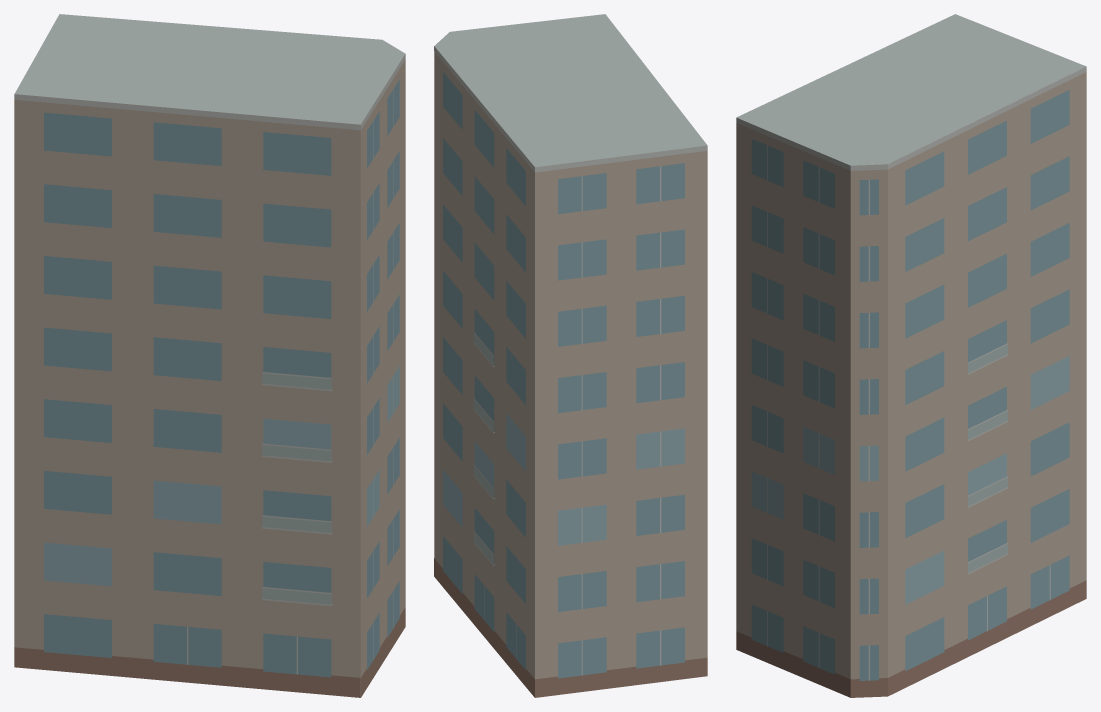
The model's file is survey-upis-32918527.glb.
3 views of the same model, side by side, from view 1: azimuth 30°, elevation 25°; view 2: azimuth 150°, elevation 25°; view 3: azimuth 270°, elevation 25° (orthographic). The views are drawn at different scales.
Parts seen in each view (by area): view 1: survey-upis-32918527.tmp; view 2: survey-upis-32918527.tmp; view 3: survey-upis-32918527.tmp.
Boxes of the visible parts, bbox=[...] form: survey-upis-32918527.tmp: bbox=[14, 14, 405, 697]; survey-upis-32918527.tmp: bbox=[434, 14, 707, 697]; survey-upis-32918527.tmp: bbox=[736, 14, 1086, 697].
Bounding box in the file's own units: 15.23 × 24.9 × 14.87.
